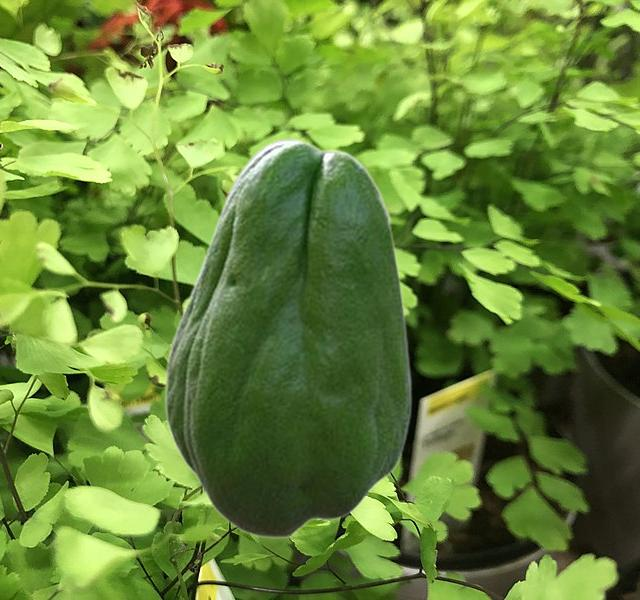sayote: (164, 138, 412, 538)
